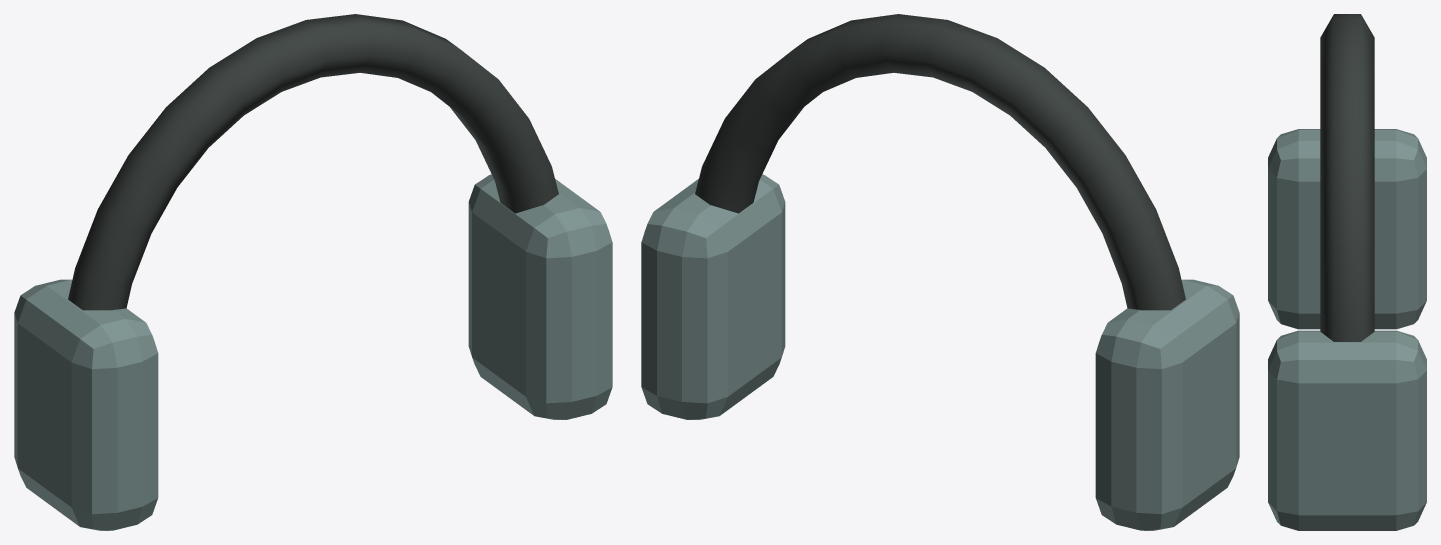
The model's file is headphones.glb.
The picture shows the model from 3 angles, left to right: view 1: azimuth 30°, elevation 25°; view 2: azimuth 150°, elevation 25°; view 3: azimuth 270°, elevation 25°; orthographic projection. The views are drawn at different scales.
Parts seen in each view (by area): view 1: KitFabric, KitDark; view 2: KitFabric, KitDark; view 3: KitFabric, KitDark.
Part boxes in pixels (left/top/right/bottom): KitFabric: left=14, top=174, right=612, bottom=530; KitDark: left=68, top=14, right=558, bottom=310; KitFabric: left=641, top=174, right=1239, bottom=530; KitDark: left=695, top=14, right=1185, bottom=310; KitFabric: left=1268, top=129, right=1426, bottom=530; KitDark: left=1320, top=14, right=1374, bottom=341.
Size of the model in its own units: 0.355 by 0.2697 by 0.1.
